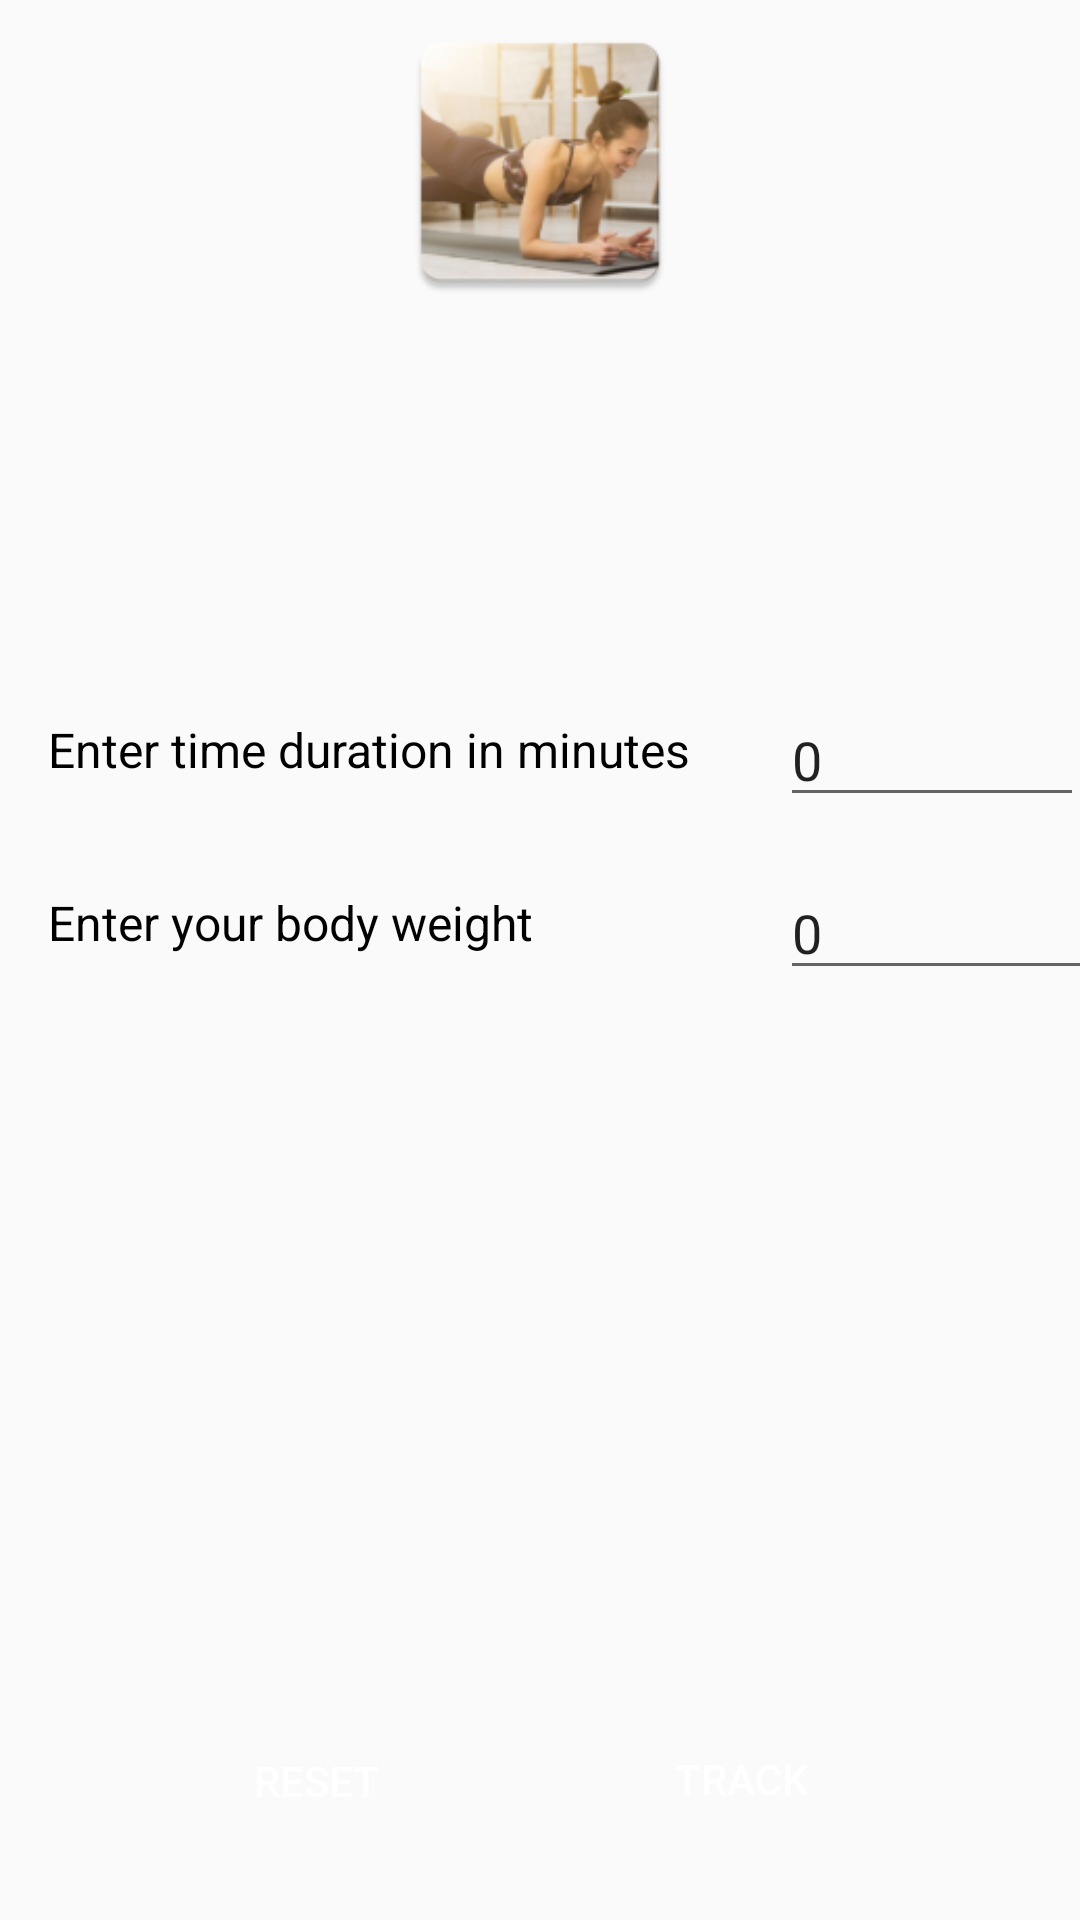

Icon click points for this 1080x1920 phone screenshot, format (x,y):
workout: (540,165)
